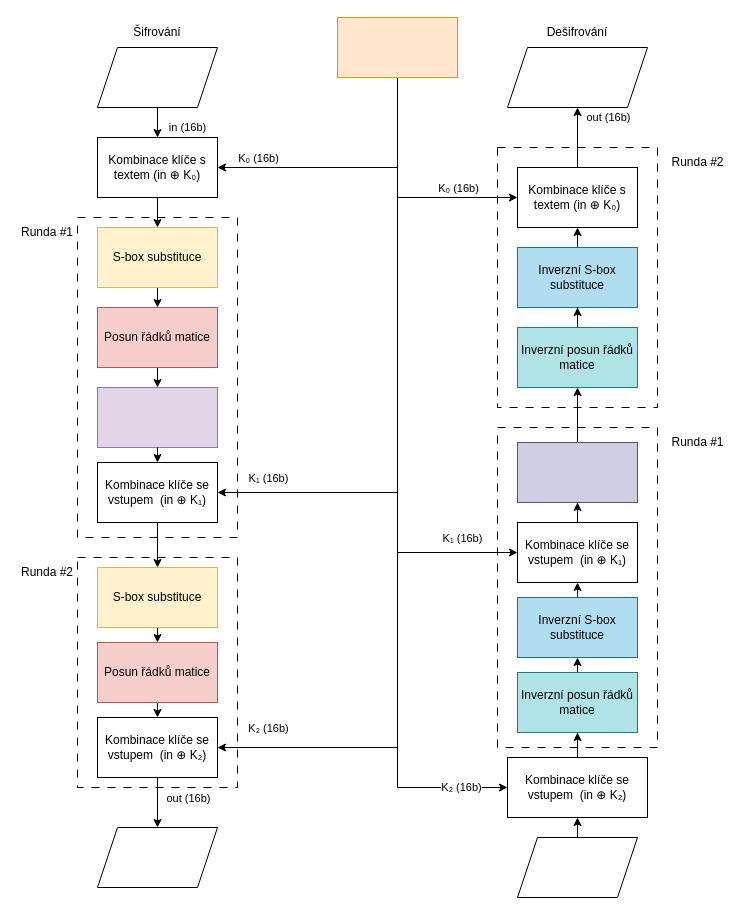
This 754x915 diagram has some shape labels left out. Each missing label, with the centre of its shape:
"Generování rundovních klíčů" belongs at (397,47).
"Pronásobení matic Galois multiply" belongs at (157,417).
"Reverzní pronásobení matic Galois multiply" belongs at (577,472).
"Vstupní text" belongs at (157,77).
"Výstupní plain text" belongs at (577,77).
"Šifrovaný vstup" belongs at (577,867).
"Šifrovaný výstup" belongs at (157,857).
